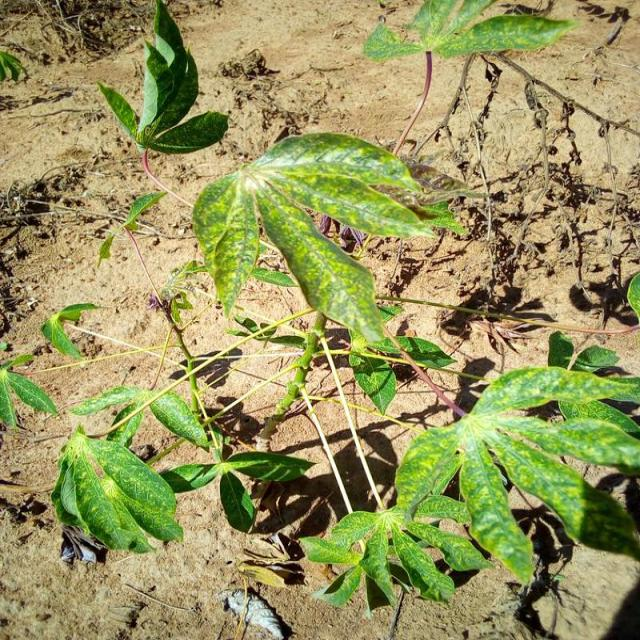cassava leaf: (191, 129, 464, 347), (394, 364, 638, 586), (50, 424, 184, 554)
